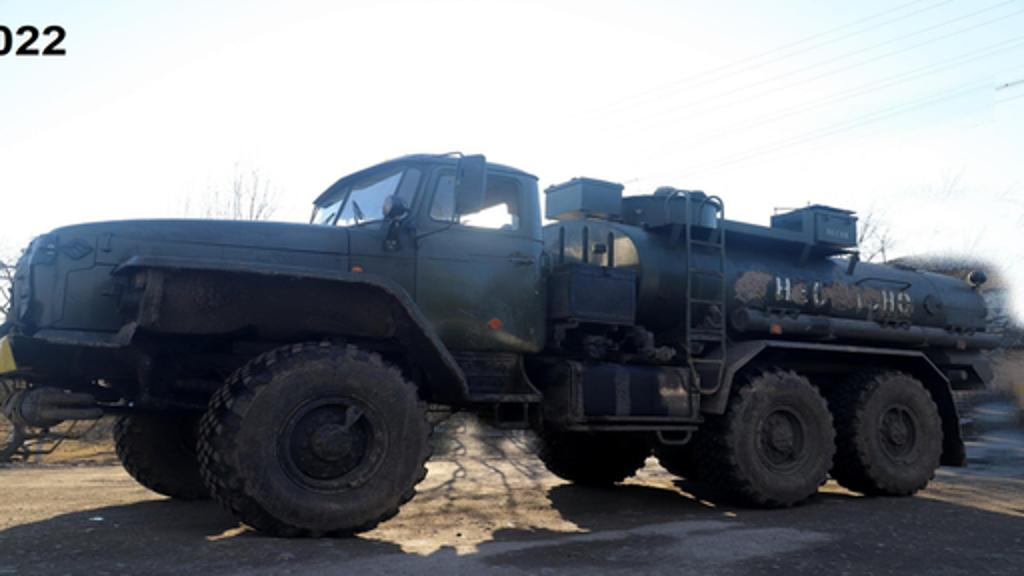TRUCK: (0, 142, 1004, 538)
